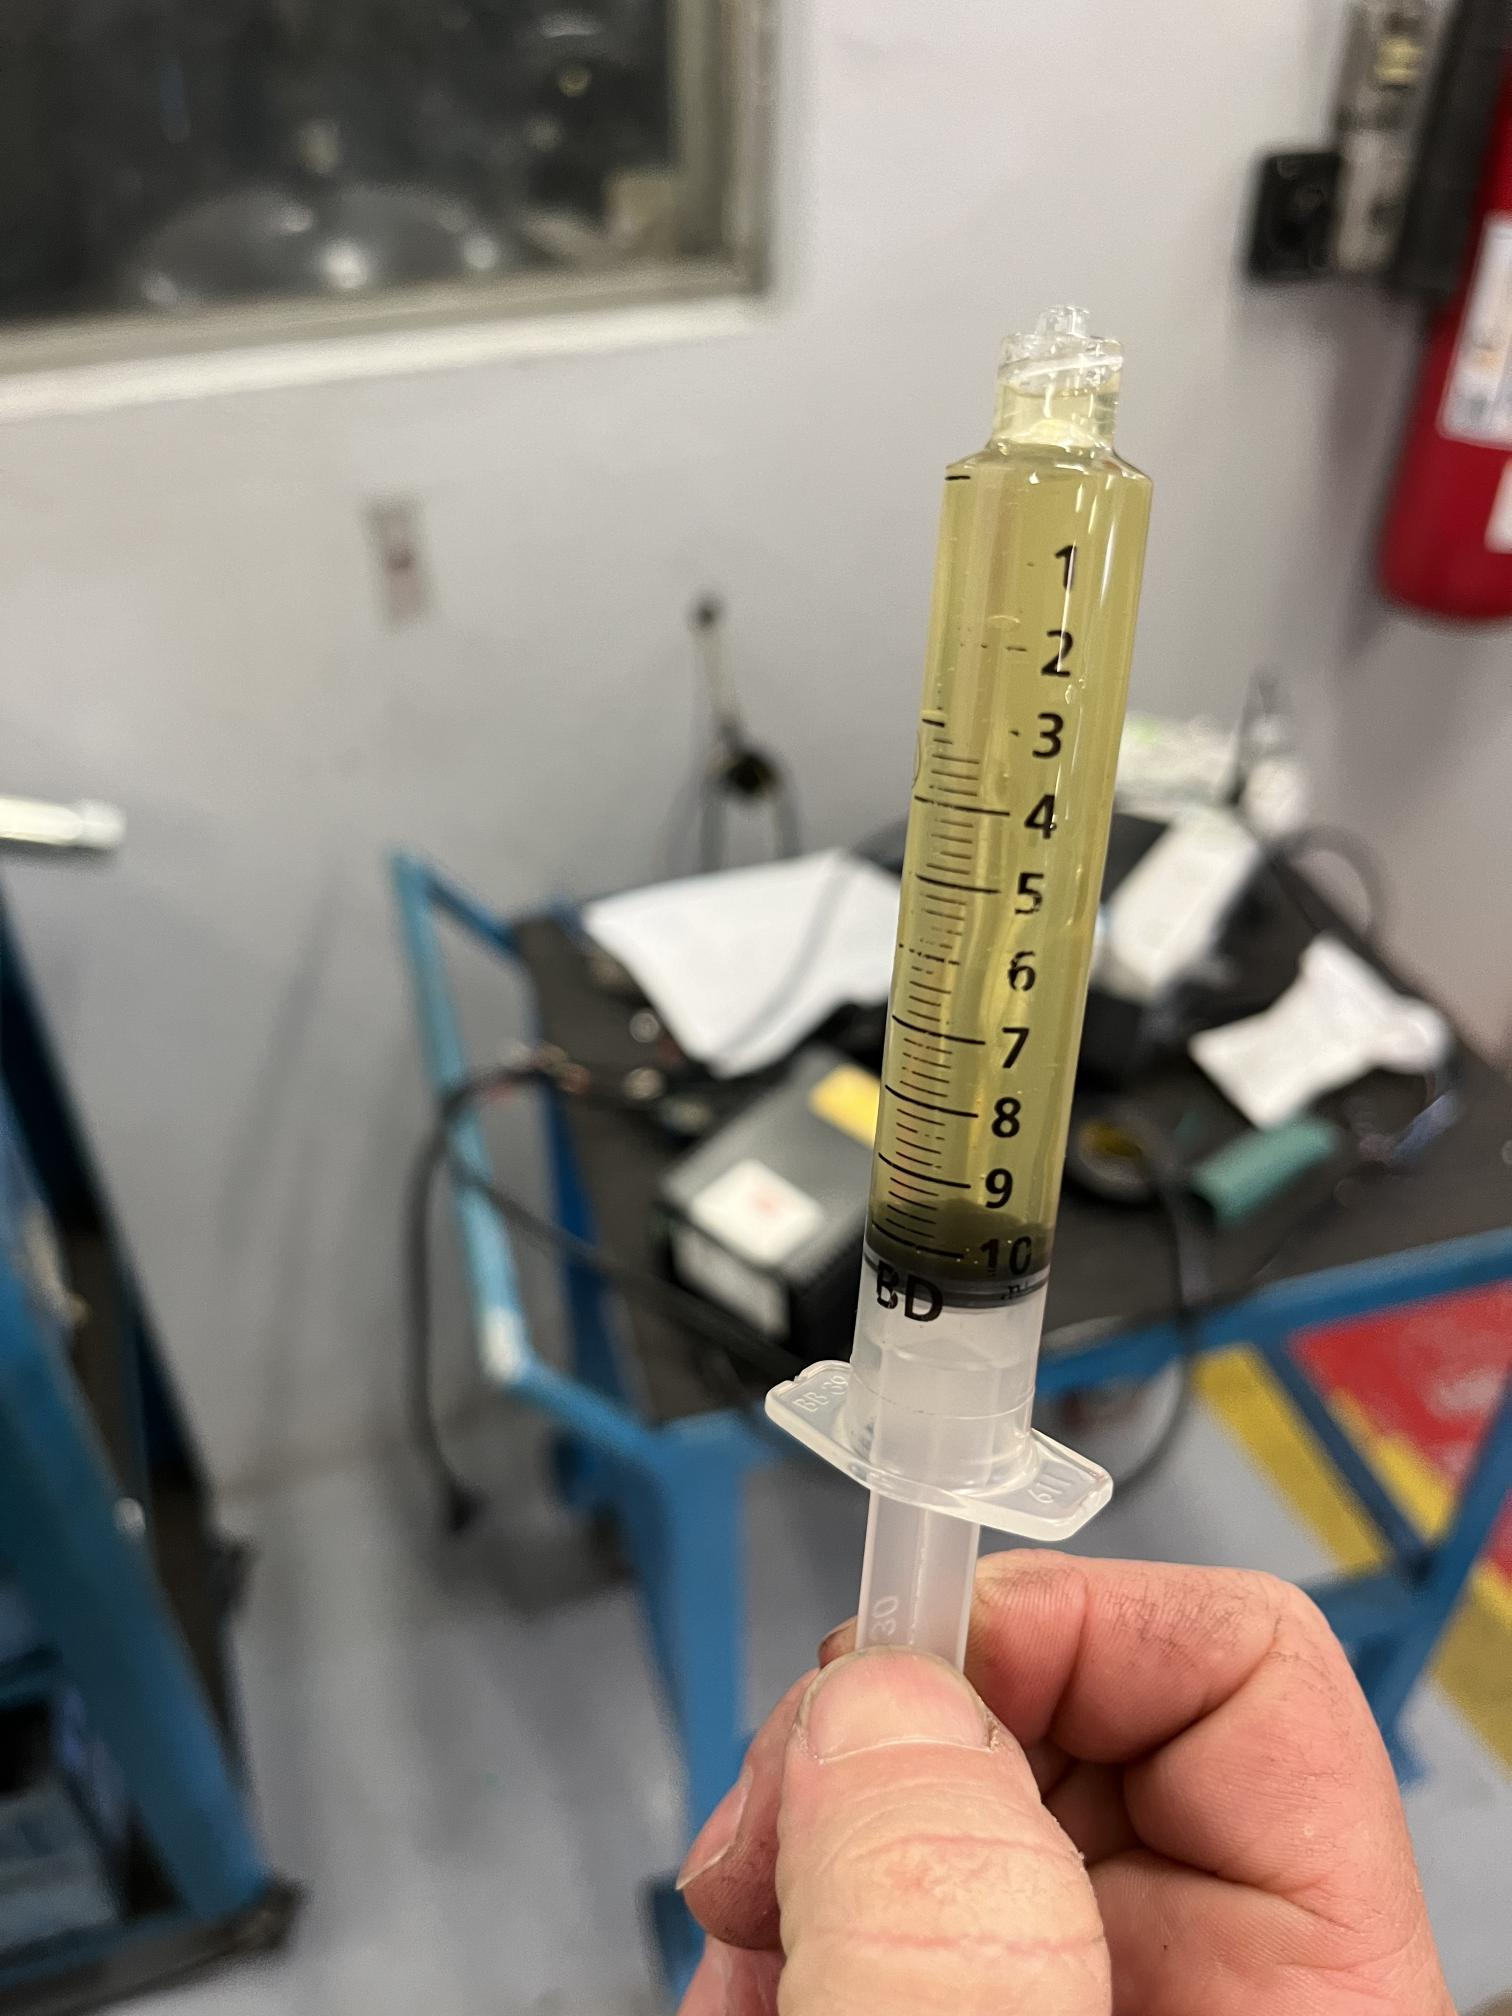Presenca de Oleo - - 40ml: (760, 240, 1185, 1555)
